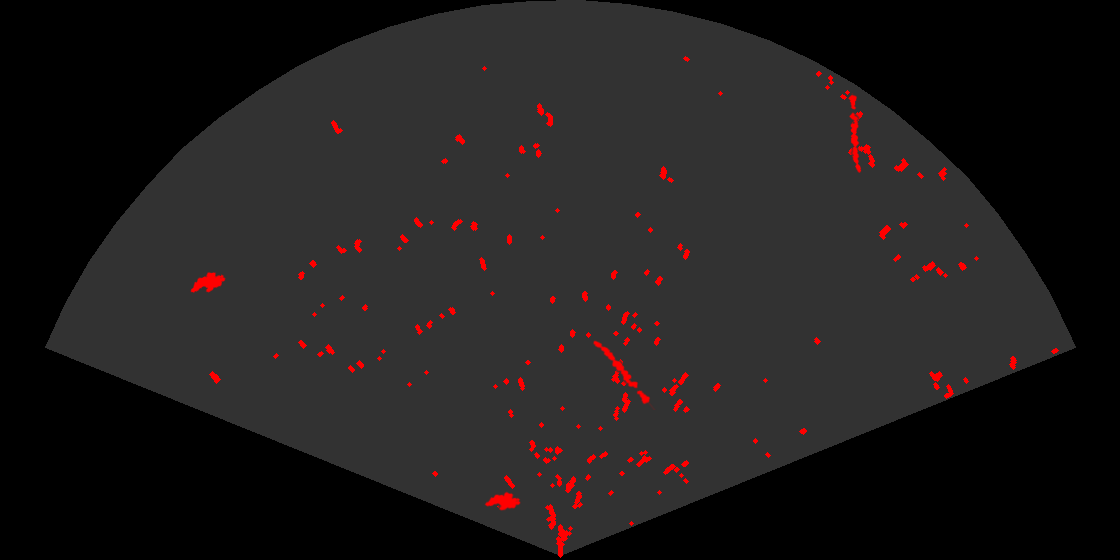AUV: (189, 270, 227, 295), (483, 490, 522, 512)
chain: (592, 339, 657, 410), (847, 93, 863, 173)
